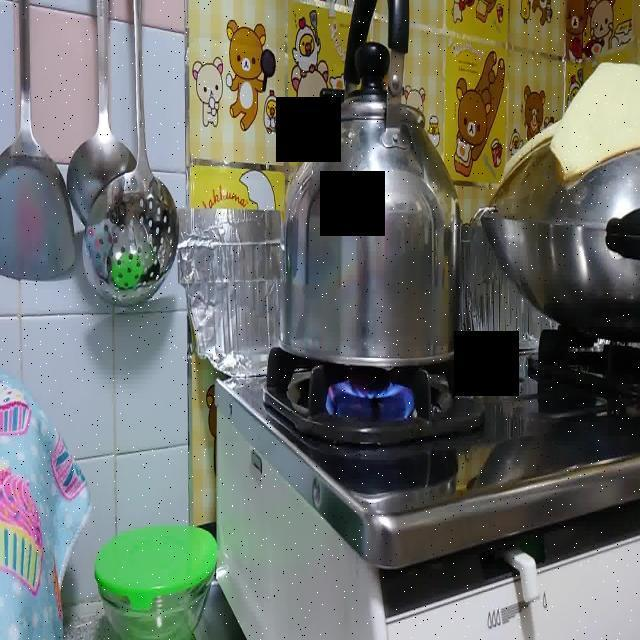Flame: (325, 378, 415, 422)
Pan: (271, 0, 476, 372)
